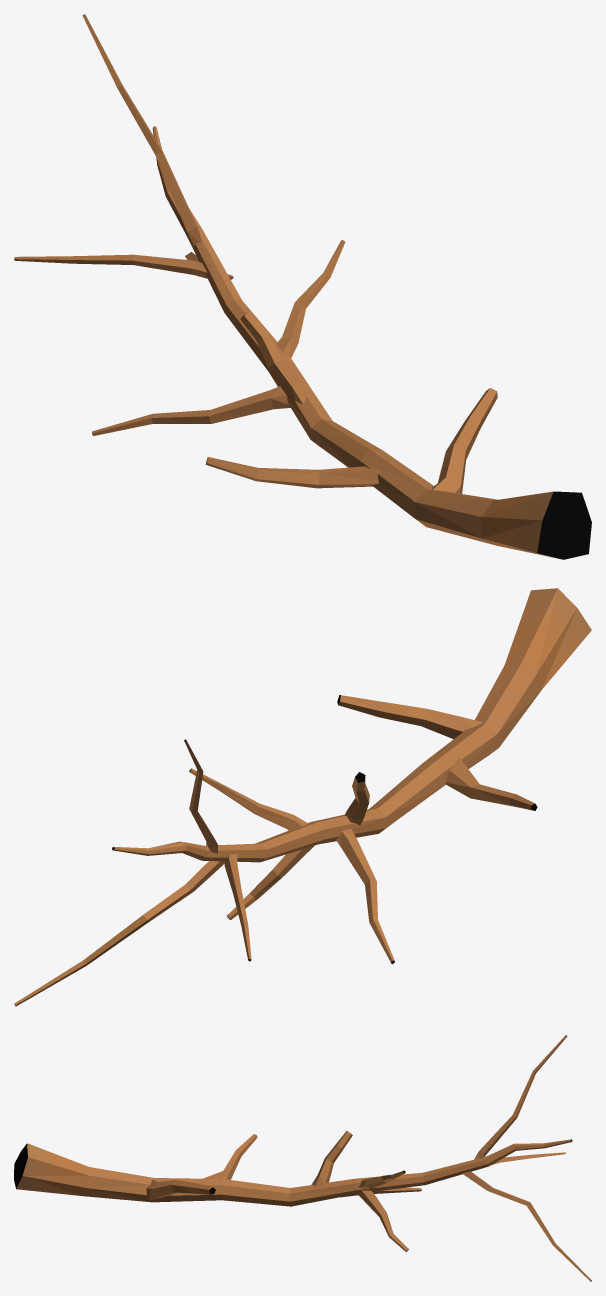
Rendered from branch.glb.
3 renders of one model, top to bottom at view 1: azimuth 30°, elevation 25°; view 2: azimuth 150°, elevation 25°; view 3: azimuth 270°, elevation 25°, orthographic. The views are drawn at different scales.
Parts seen in each view (by area): view 1: Branch_1a; view 2: Branch_1a; view 3: Branch_1a.
Boxes of the visible parts, <box> form: Branch_1a: <box>14,14,591,559</box>; Branch_1a: <box>14,588,591,1006</box>; Branch_1a: <box>14,1035,591,1281</box>.
Size of the model in its own units: 0.694 by 0.7041 by 1.87.
Materials: 1 (1 with a texture image).
